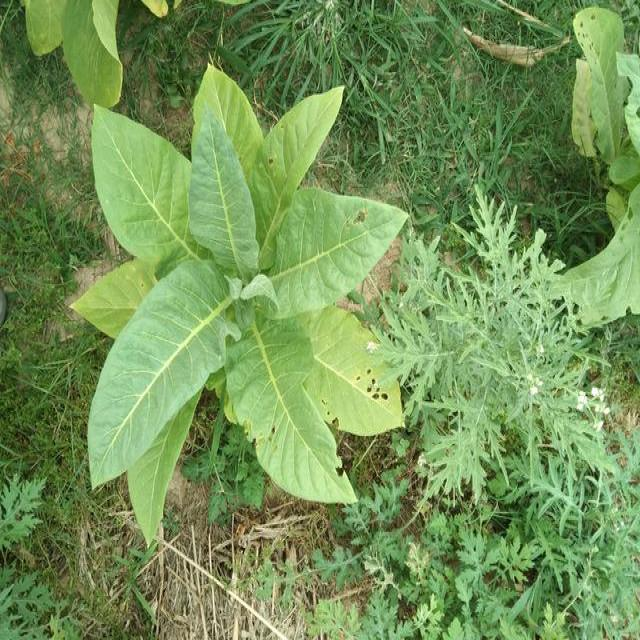crop: (73, 61, 404, 554)
